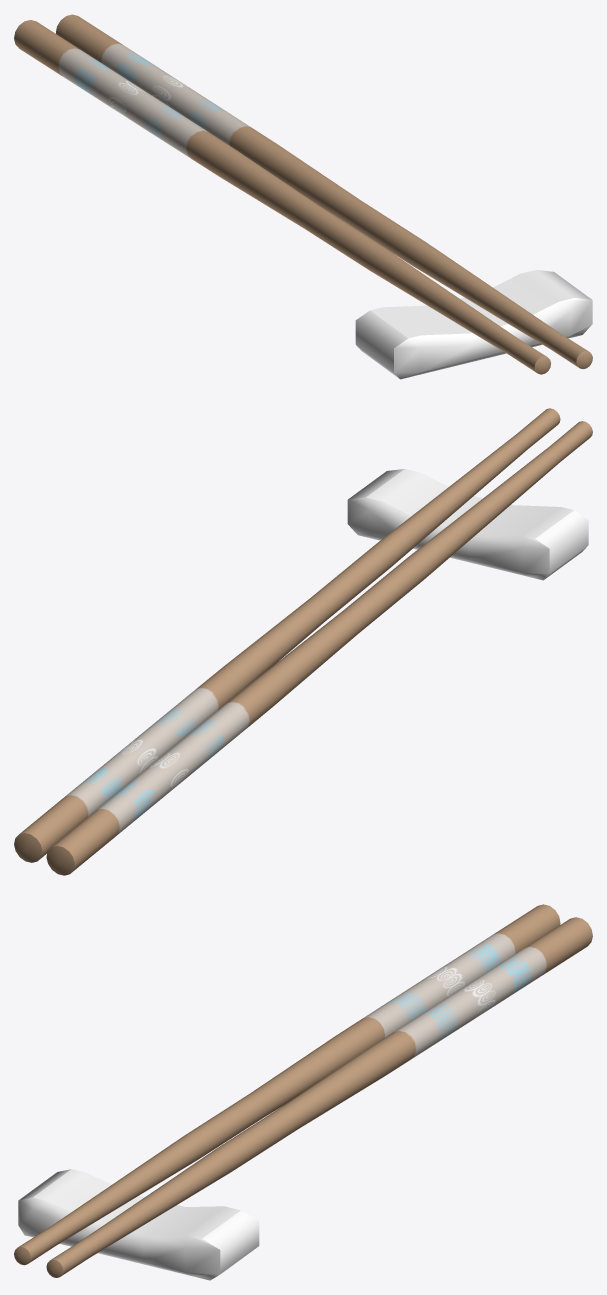
File: Chopsticks.fbx
3 views of the same model, one above another, from view 1: azimuth 30°, elevation 25°; view 2: azimuth 150°, elevation 25°; view 3: azimuth 330°, elevation 25° (orthographic).
Parts seen in each view (by area): view 1: pCylinder3; view 2: pCylinder3; view 3: pCylinder3.
Boxes of the visible parts, x1,y1,x2,y2 form: pCylinder3: [14, 14, 592, 379]; pCylinder3: [14, 408, 592, 875]; pCylinder3: [14, 904, 592, 1280].
Bounding box in the file's own units: 12.08 × 4.03 × 55.32.
